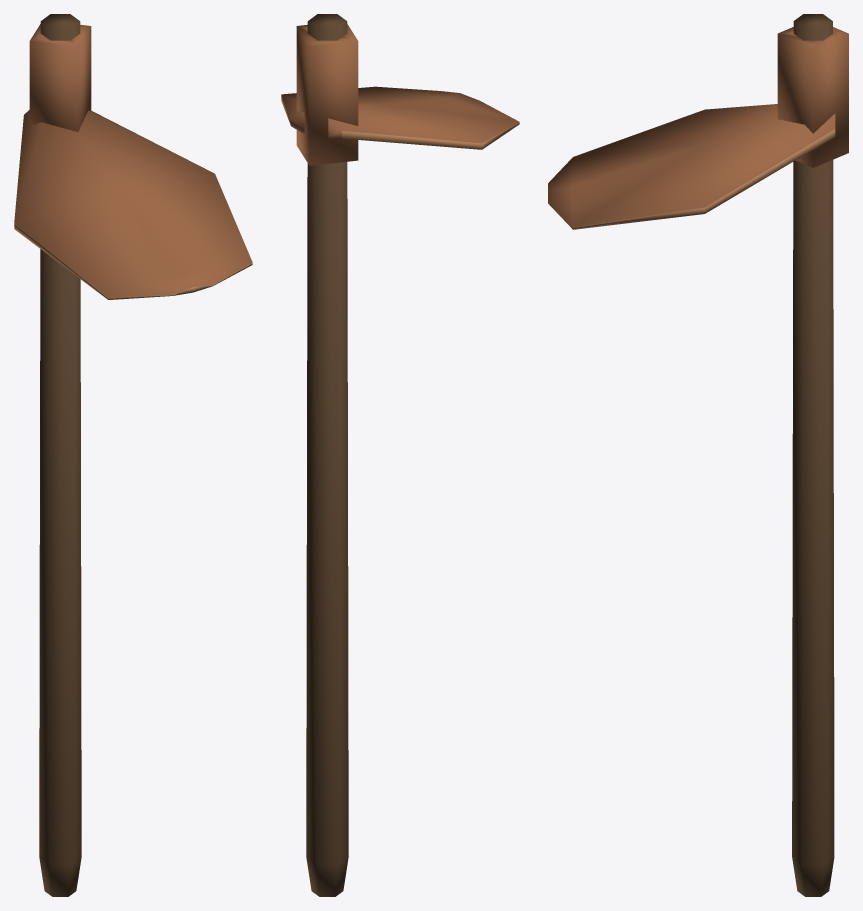
File: copper_hoe_lod1.glb
3 renders of one model, left to right at view 1: azimuth 30°, elevation 25°; view 2: azimuth 150°, elevation 25°; view 3: azimuth 270°, elevation 25°, orthographic.
Parts seen in each view (by area): view 1: copper_hoe_lod1; view 2: copper_hoe_lod1; view 3: copper_hoe_lod1.
Boxes of the visible parts, x1,y1,x2,y2 form: copper_hoe_lod1: (14,14,252,896); copper_hoe_lod1: (281,14,519,896); copper_hoe_lod1: (548,14,848,896).
Bounding box in the file's own units: 0.306 × 1.27 × 0.397.
